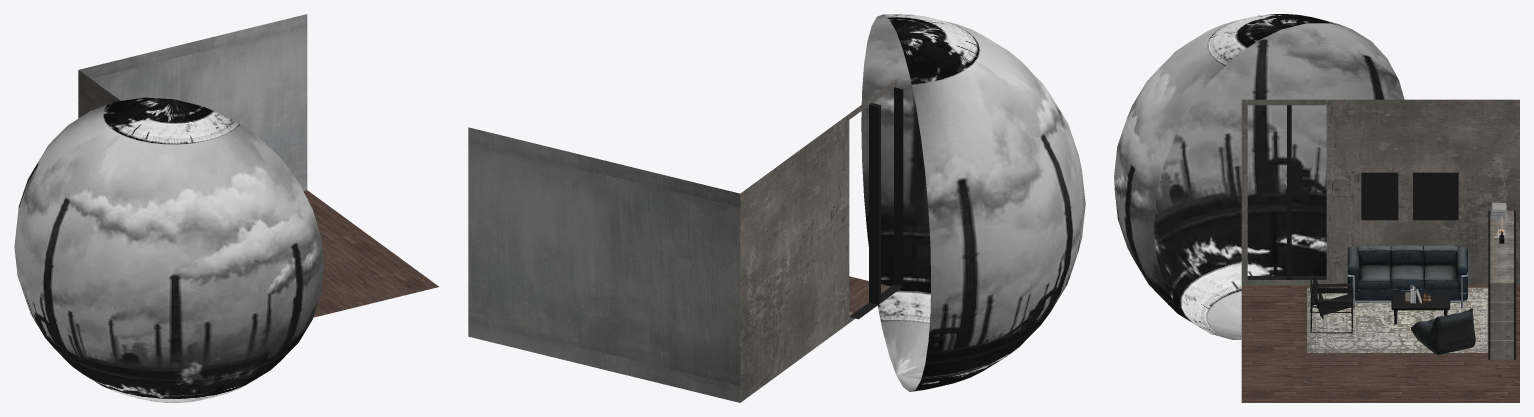
The model's file is loft-15.glb.
The picture shows the model from 3 angles, left to right: view 1: azimuth 30°, elevation 25°; view 2: azimuth 150°, elevation 25°; view 3: azimuth 270°, elevation 25°; orthographic projection. The views are drawn at different scales.
Visible parts, largest first — view 1: Sphere_Material.014_0, Plane_Material.003_0, Plane_Material.001_0, Cube_Material.002_0; view 2: Sphere_Material.014_0, Plane_Material.003_0, Cube_Material.002_0, Cube_Material.006_0, Plane_Material.001_0; view 3: Sphere_Material.014_0, Cube_Material.002_0, Plane_Material.001_0, Cube_Material.006_0, Plane.001_Material.004_0, node_0_Material.005_0, node_0.002_Material.007_0, node_0.004_Material.011_0.
Boxes of the visible parts, x1,y1,x2,y2 form: Sphere_Material.014_0: (14,97,323,402); Plane_Material.003_0: (79,14,307,190); Plane_Material.001_0: (303,190,438,317); Cube_Material.002_0: (78,70,120,118); Sphere_Material.014_0: (861,14,1085,391); Plane_Material.003_0: (468,127,740,402); Cube_Material.002_0: (740,79,897,402); Cube_Material.006_0: (850,87,903,319); Plane_Material.001_0: (849,276,890,316); Sphere_Material.014_0: (1114,14,1404,339); Cube_Material.002_0: (1241,99,1519,359); Plane_Material.001_0: (1241,285,1519,402); Cube_Material.006_0: (1247,105,1515,359); Plane.001_Material.004_0: (1307,287,1488,352); node_0_Material.005_0: (1347,245,1467,308); node_0.002_Material.007_0: (1411,308,1475,355); node_0.004_Material.011_0: (1405,216,1505,303).
Bounding box in the file's own units: 9.6 × 6.89 × 8.33.
Materials: 12 (11 with a texture image).
